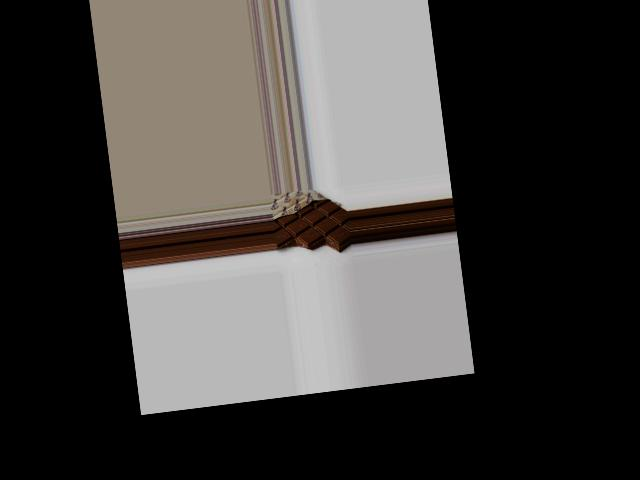chocolate: (268, 186, 350, 254)
